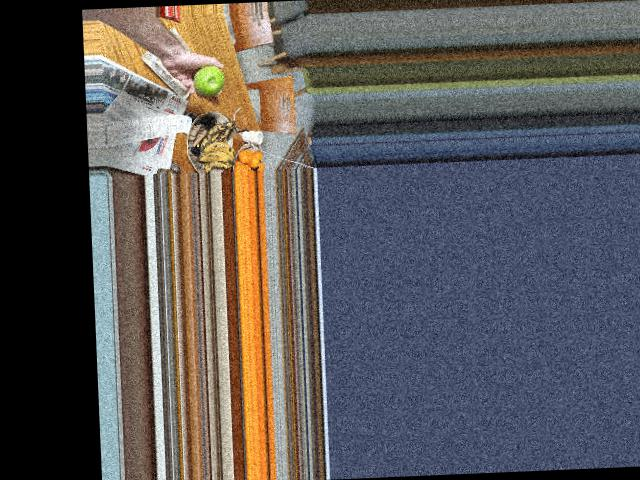apple: (187, 66, 232, 95)
